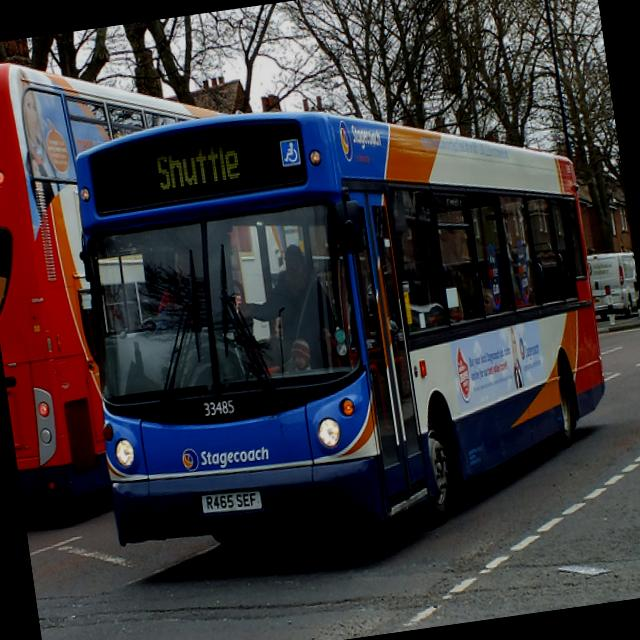Vehicle: (61, 66, 621, 568), (0, 33, 280, 513), (588, 246, 640, 319)
